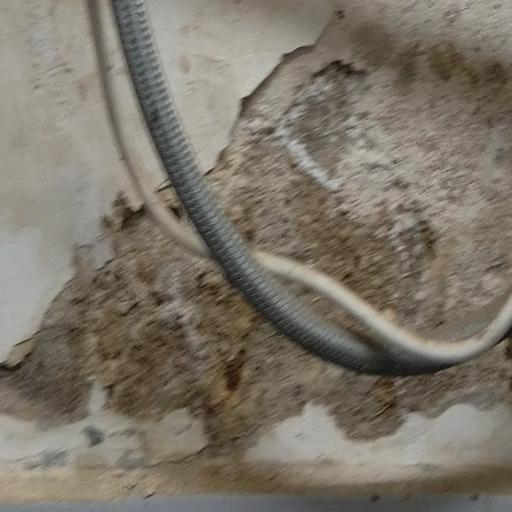spalling: (31, 10, 512, 512)
